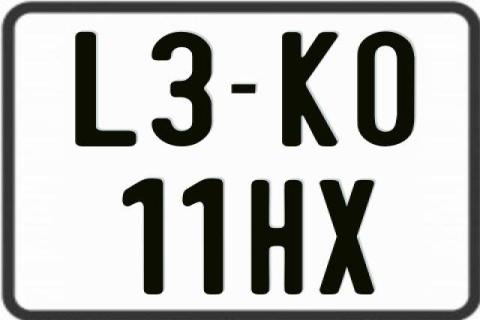0: (150, 31, 211, 146), (354, 30, 413, 146), (120, 178, 164, 294), (179, 178, 221, 298)
H: (251, 179, 306, 296)
K: (280, 30, 341, 150)
L: (73, 32, 140, 149)
X: (318, 179, 372, 295)
